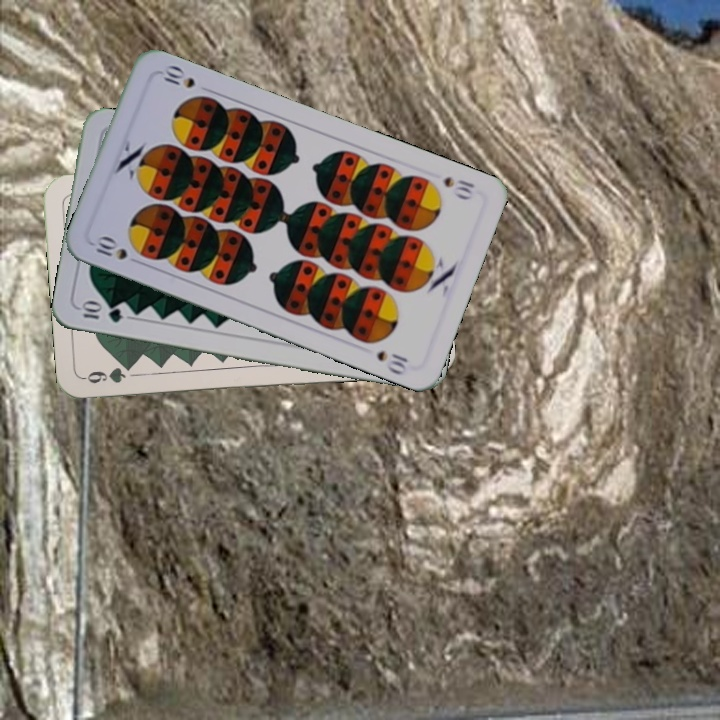G10: (76, 299, 125, 325)
G9: (81, 364, 128, 386)
S10: (88, 233, 131, 263), (438, 172, 478, 203)
